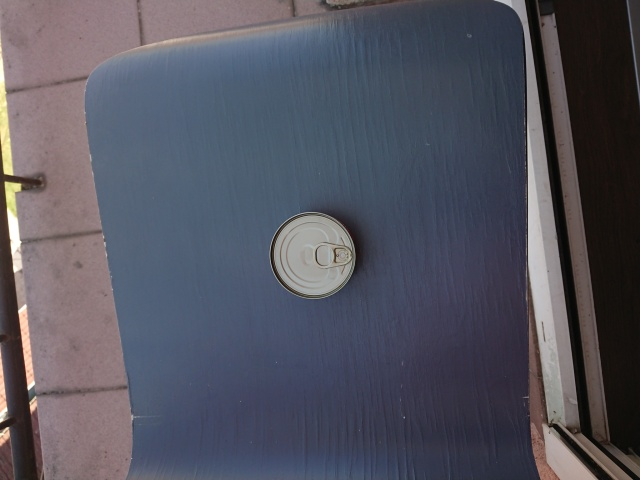Gavrilovic Pork Liver Pate 100g: (267, 208, 359, 303)
